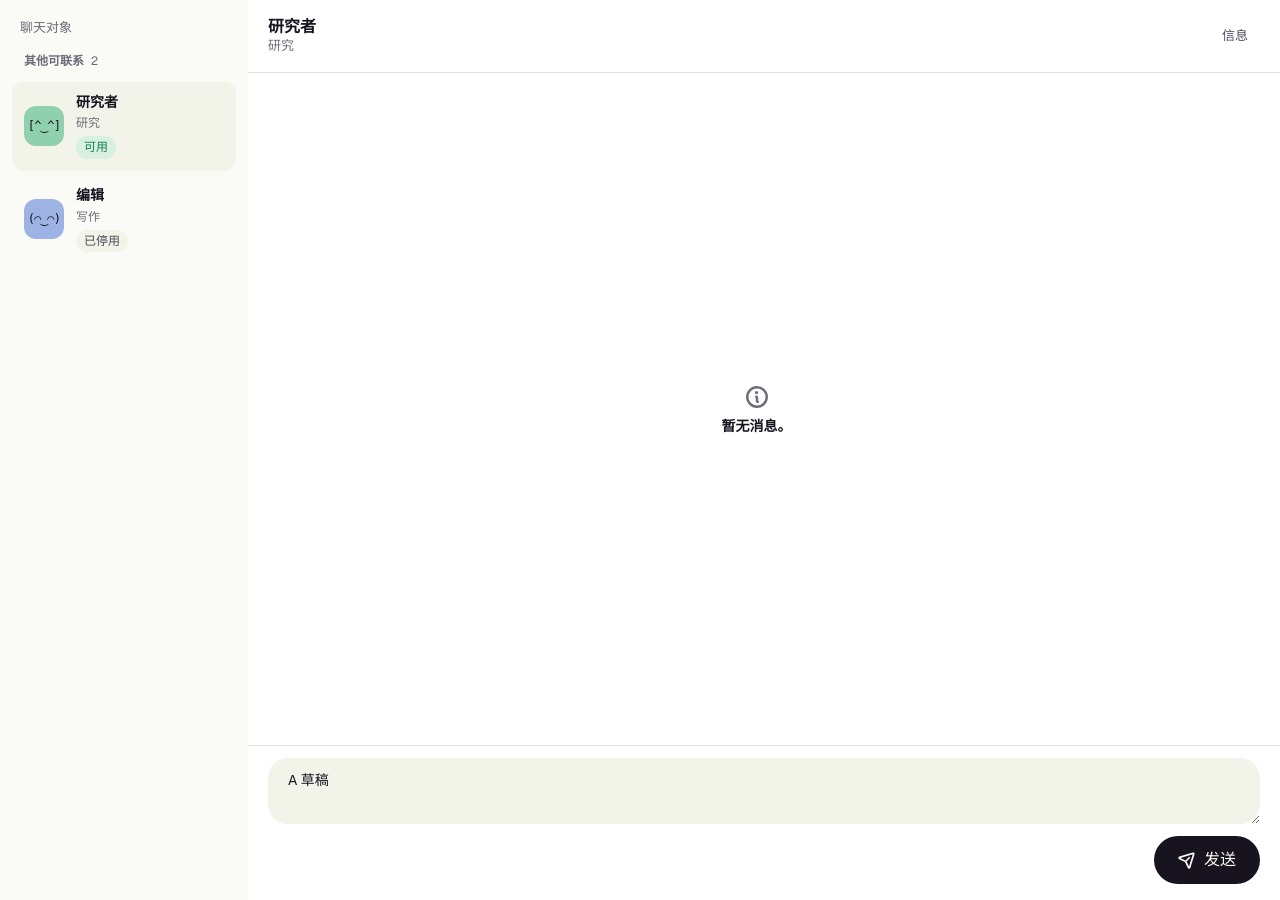
controlled AgentChatSection › projects info controls and returns focus to the toggle when the controller closes the panel
The image size is (1280, 900).
Click the button "信息": (1235, 36) x1=1210 y1=12 x2=1260 y2=60
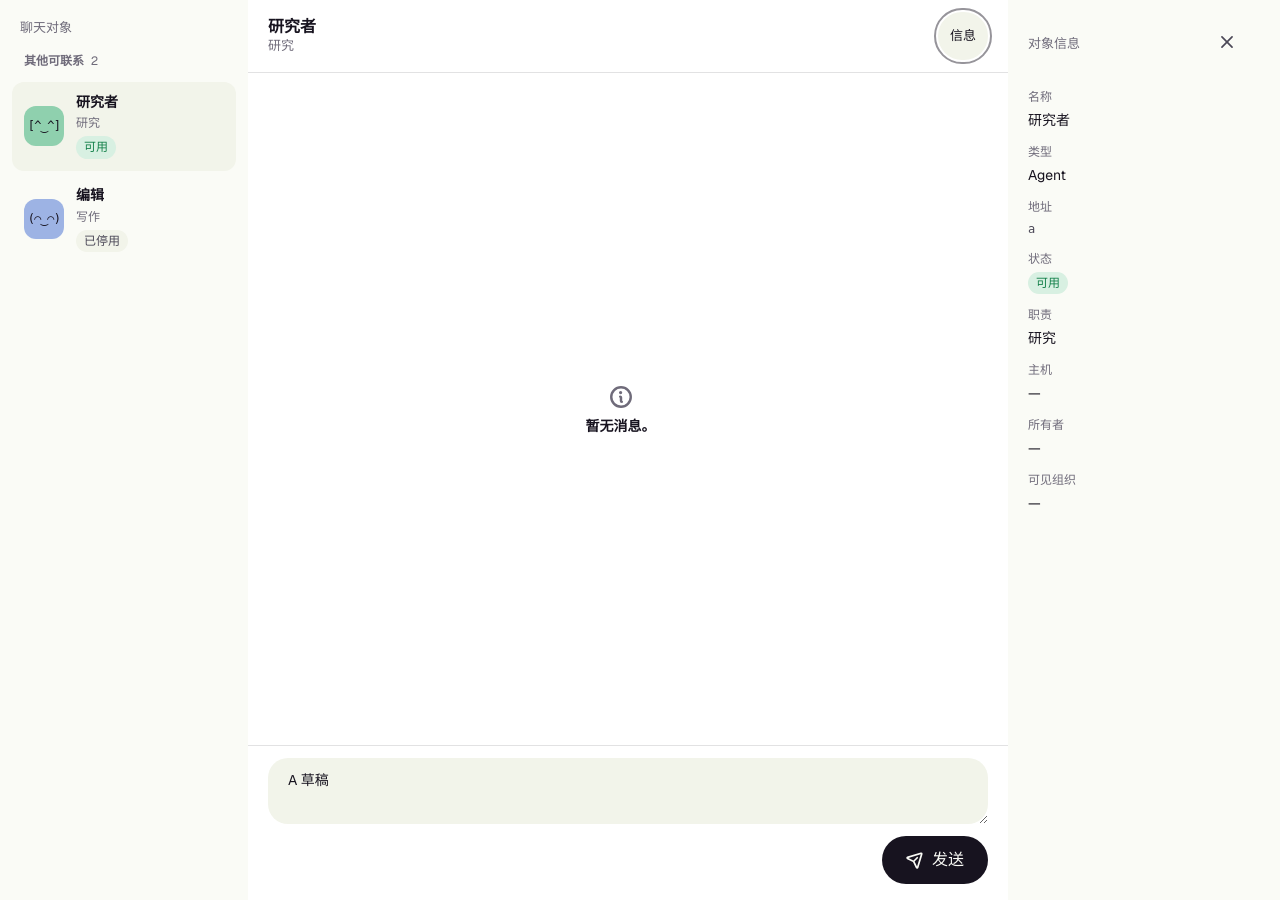
Click the button named "收起信息": (1227, 44) x1=1194 y1=20 x2=1260 y2=68
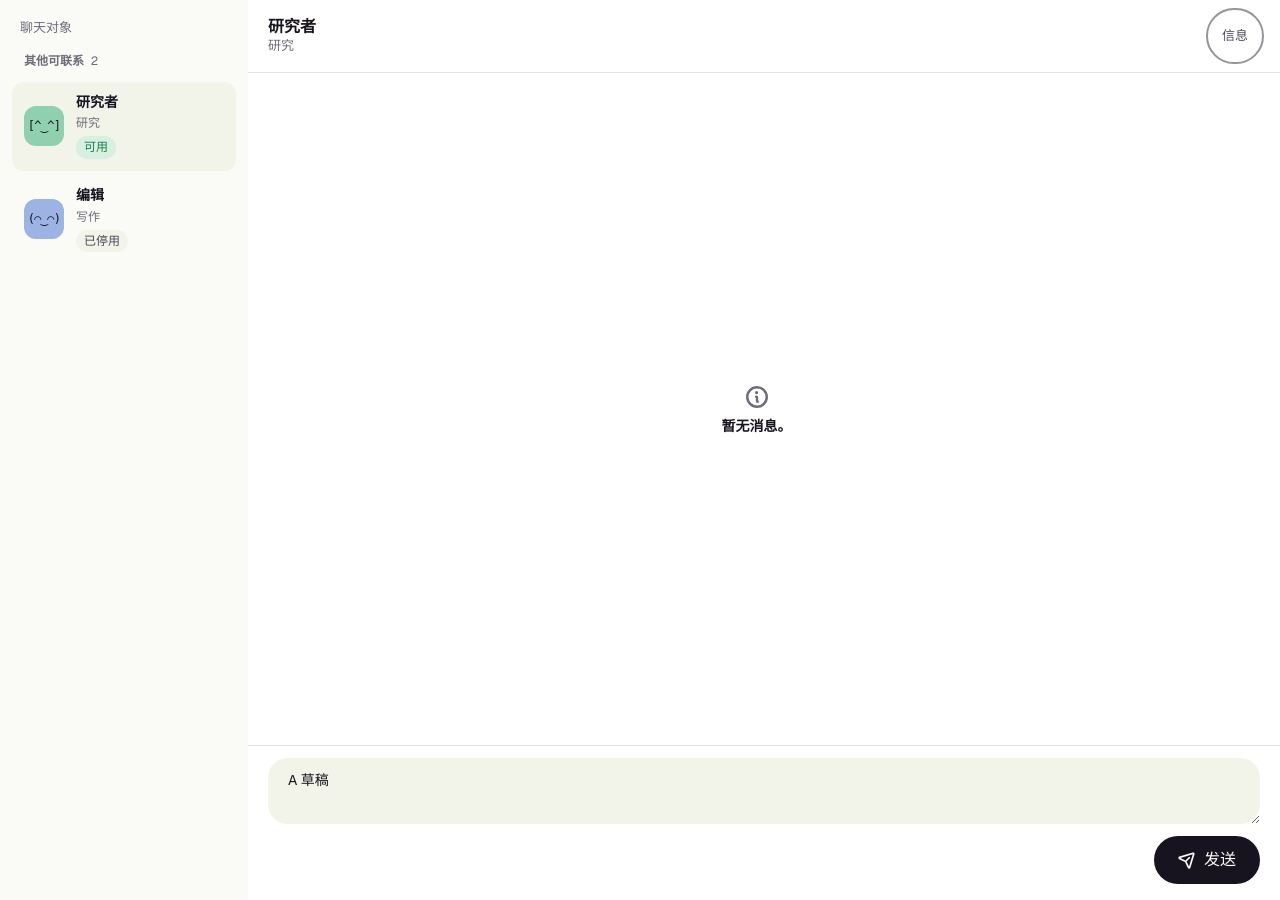
Expected: the heading "对象信息" is gone
